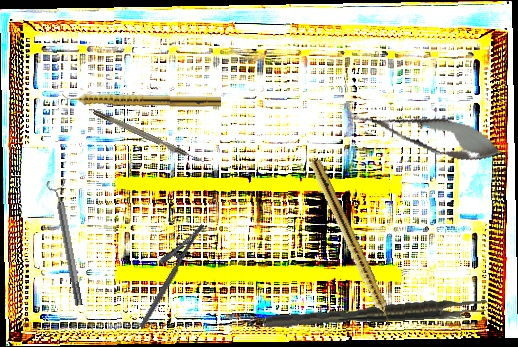Fixation Ring: (45, 177, 89, 308)
Handpiece: (306, 158, 398, 333), (61, 90, 222, 108)
Hook Surgical: (92, 108, 206, 166)
Micro Scissor: (344, 96, 509, 171)
Needle Holder: (124, 214, 206, 330)
Tissue Forceps: (265, 297, 488, 328)
